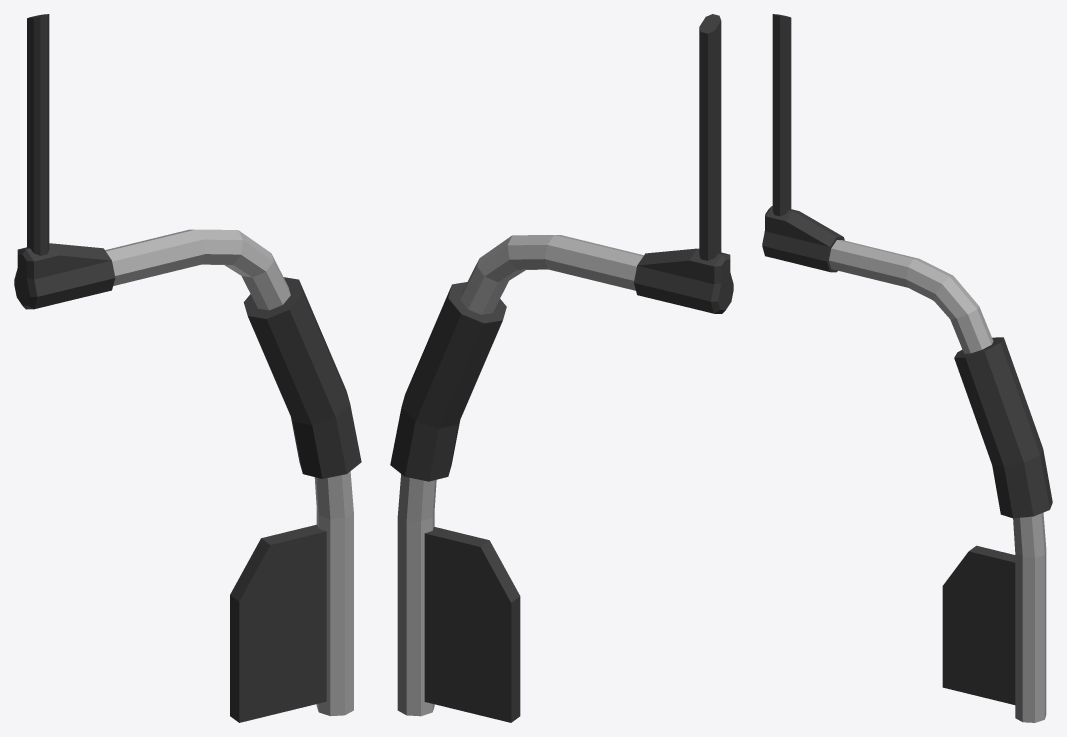
The model's file is PecDeck_Ac_1.fbx.
3 renders of one model, left to right at view 1: azimuth 30°, elevation 25°; view 2: azimuth 150°, elevation 25°; view 3: azimuth 330°, elevation 25°, orthographic. The views are drawn at different scales.
Parts seen in each view (by area): view 1: PecDeck_Ac_1; view 2: PecDeck_Ac_1; view 3: PecDeck_Ac_1.
Part boxes in pixels (x1,y1,x2,y2): PecDeck_Ac_1: [14, 14, 361, 722]; PecDeck_Ac_1: [390, 14, 733, 722]; PecDeck_Ac_1: [762, 14, 1052, 722].
Size of the model in its own units: 50.22 by 110 by 8.41.
